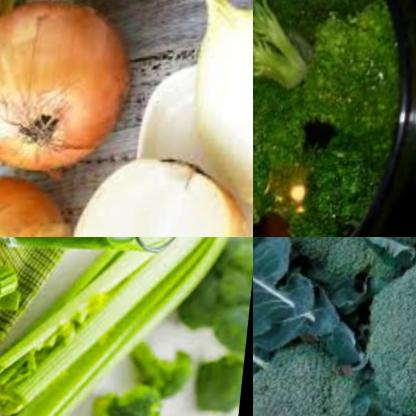broccoli: (253, 0, 408, 237), (253, 318, 380, 416), (350, 237, 416, 416), (253, 237, 405, 300), (181, 237, 253, 366), (129, 335, 207, 401), (100, 382, 199, 416)
celery: (0, 237, 253, 416), (0, 265, 40, 331), (0, 351, 13, 416)
onion: (0, 0, 144, 174), (164, 0, 253, 225), (55, 147, 253, 237), (0, 154, 90, 237)
